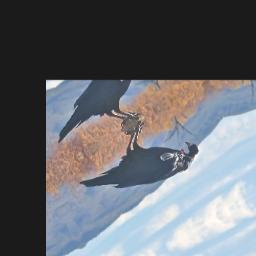Crow: (68, 100, 205, 225)
